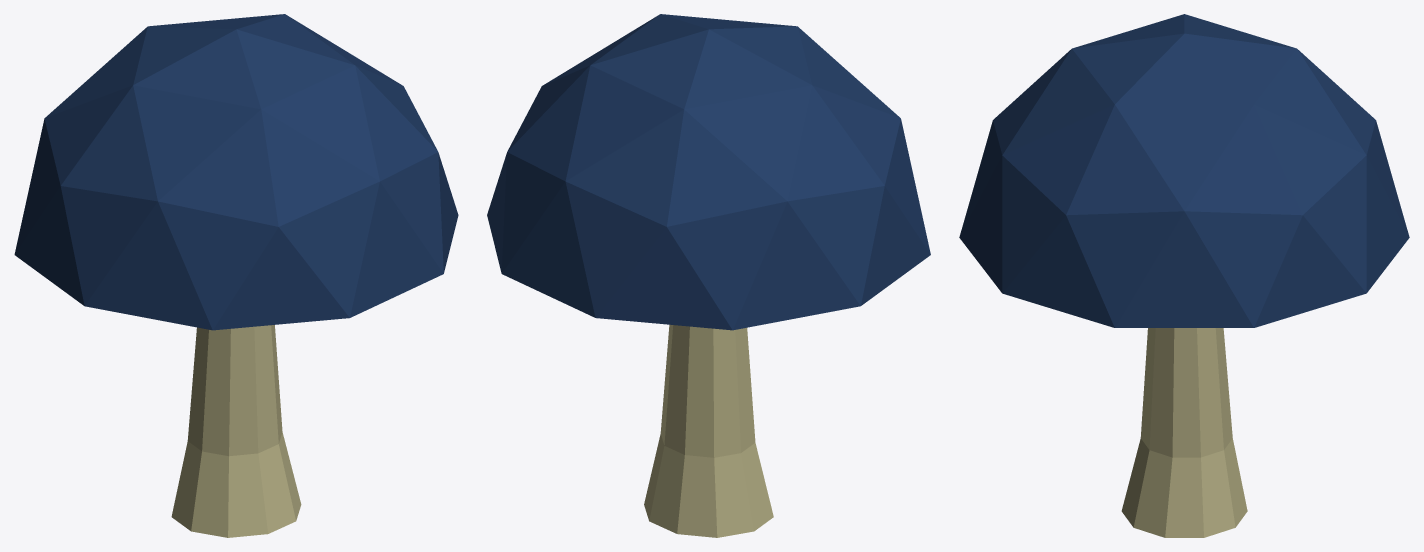
File: mushrooom01_blue.fbx
The picture shows the model from 3 angles, left to right: view 1: azimuth 30°, elevation 25°; view 2: azimuth 150°, elevation 25°; view 3: azimuth 270°, elevation 25°; orthographic projection.
Parts seen in each view (by area): view 1: mushrooom01_blue; view 2: mushrooom01_blue; view 3: mushrooom01_blue.
Part boxes in pixels (left/top/right/bottom): mushrooom01_blue: left=14, top=14, right=458, bottom=537; mushrooom01_blue: left=487, top=14, right=930, bottom=537; mushrooom01_blue: left=959, top=14, right=1409, bottom=537.
Size of the model in its own units: 59.22 by 72.89 by 62.27.
